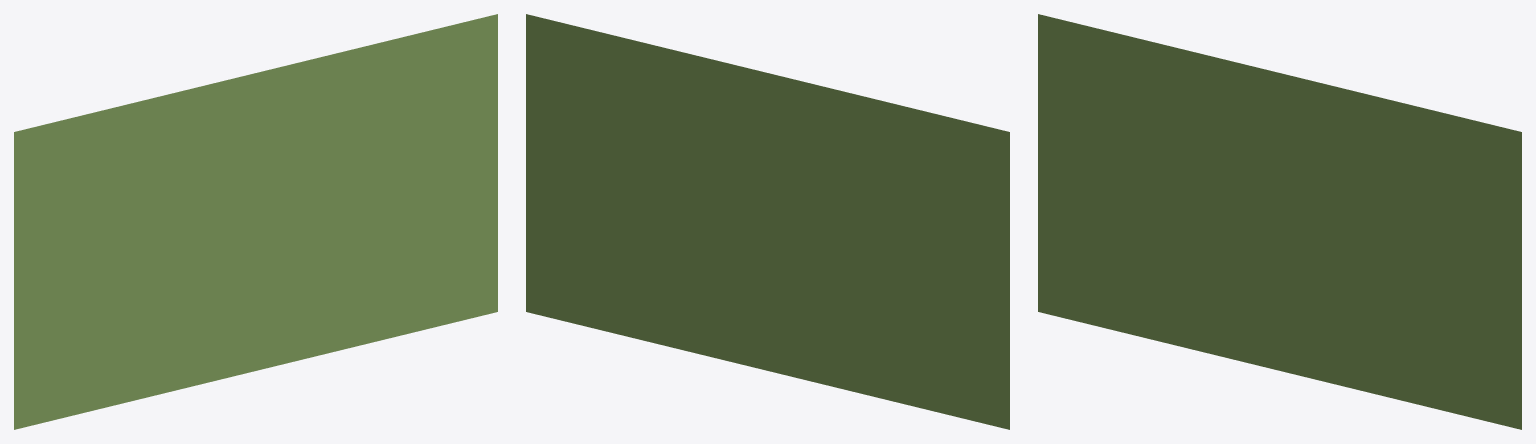
Rendered from Itr_Wall_Color_07.FBX.
3 views of the same model, side by side, from view 1: azimuth 30°, elevation 25°; view 2: azimuth 150°, elevation 25°; view 3: azimuth 330°, elevation 25° (orthographic).
Parts seen in each view (by area): view 1: Itr_Wall_Color_07; view 2: Itr_Wall_Color_07; view 3: Itr_Wall_Color_07.
Part boxes in pixels (box(x1,y1,x2,y2)): Itr_Wall_Color_07: box(14, 14, 497, 429); Itr_Wall_Color_07: box(526, 14, 1009, 429); Itr_Wall_Color_07: box(1038, 14, 1521, 429).
Size of the model in its own units: 118 by 69.49 by 3.05e-05.
